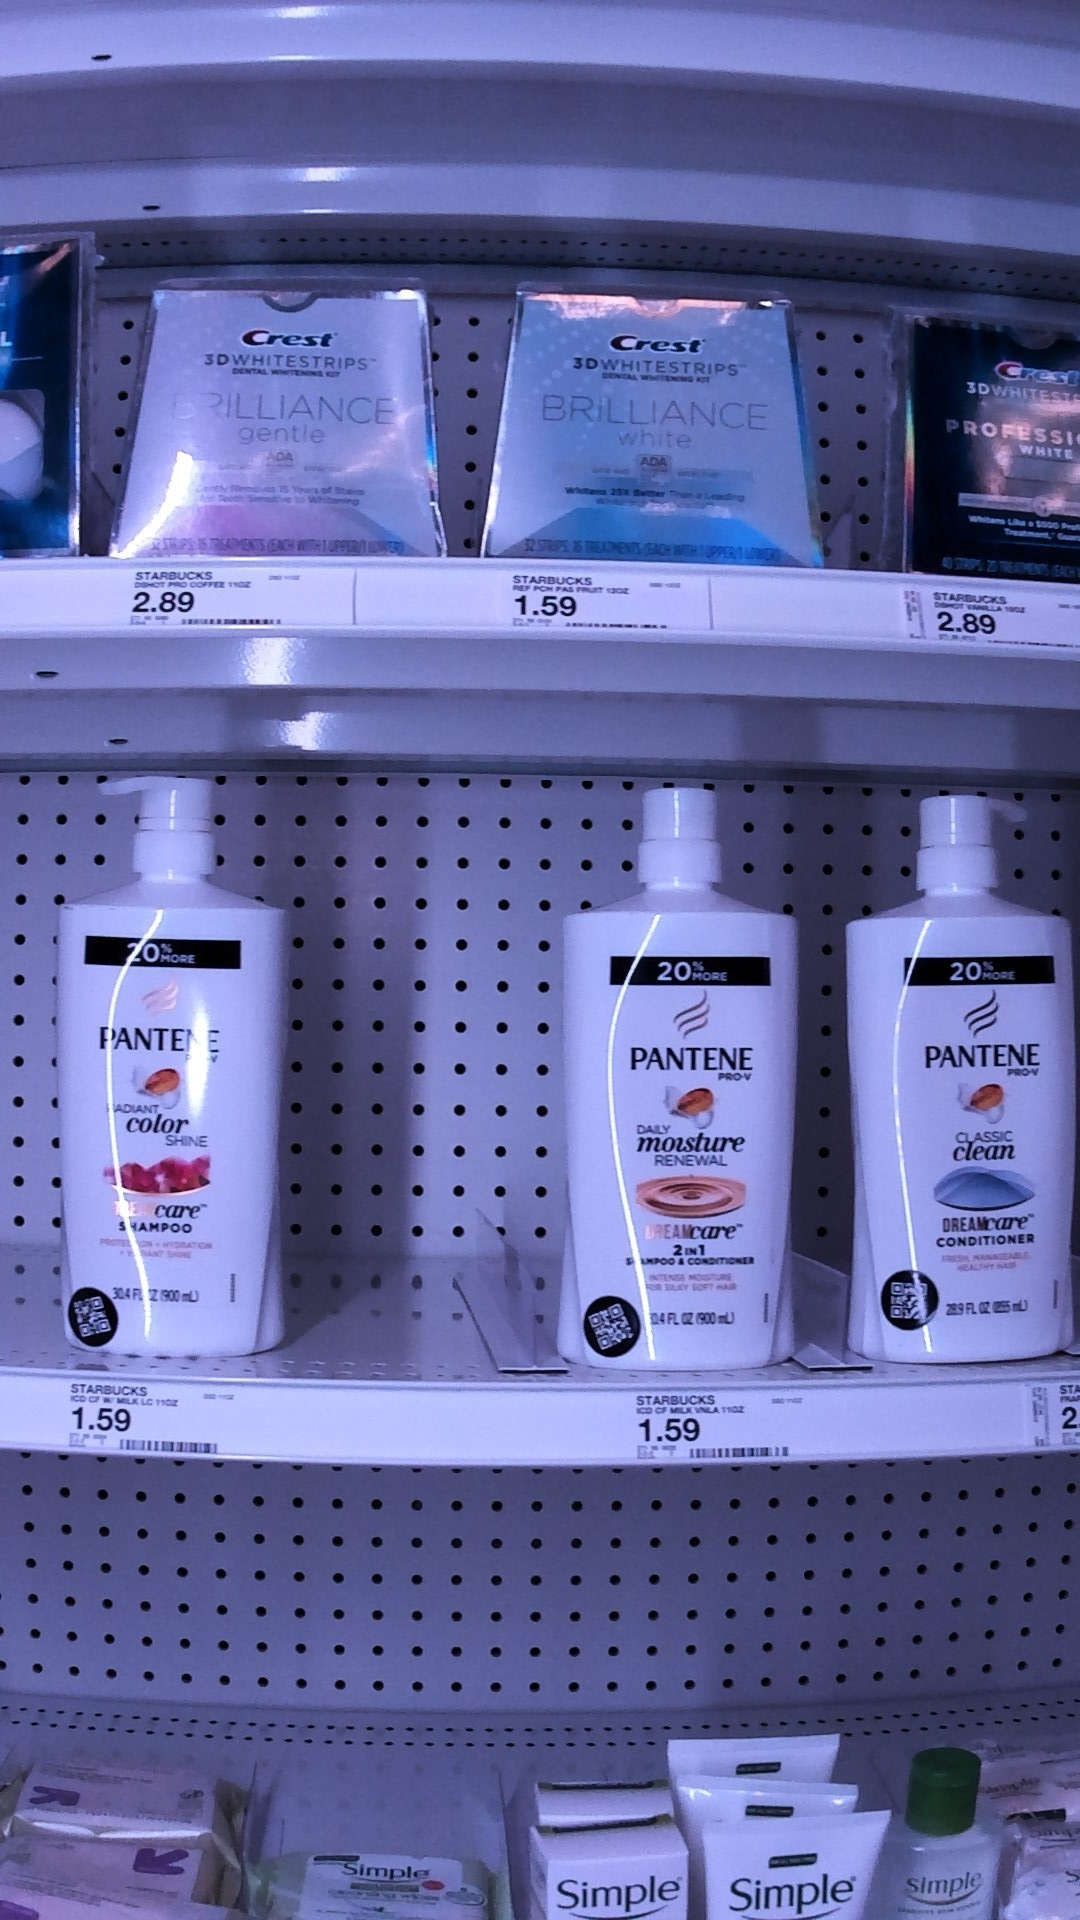ptag: (895, 571, 1080, 661), (495, 555, 694, 633), (624, 1389, 808, 1472), (62, 1375, 222, 1462), (129, 556, 320, 629)
